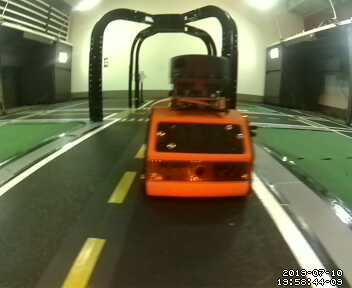pheeno: (143, 52, 255, 208)
